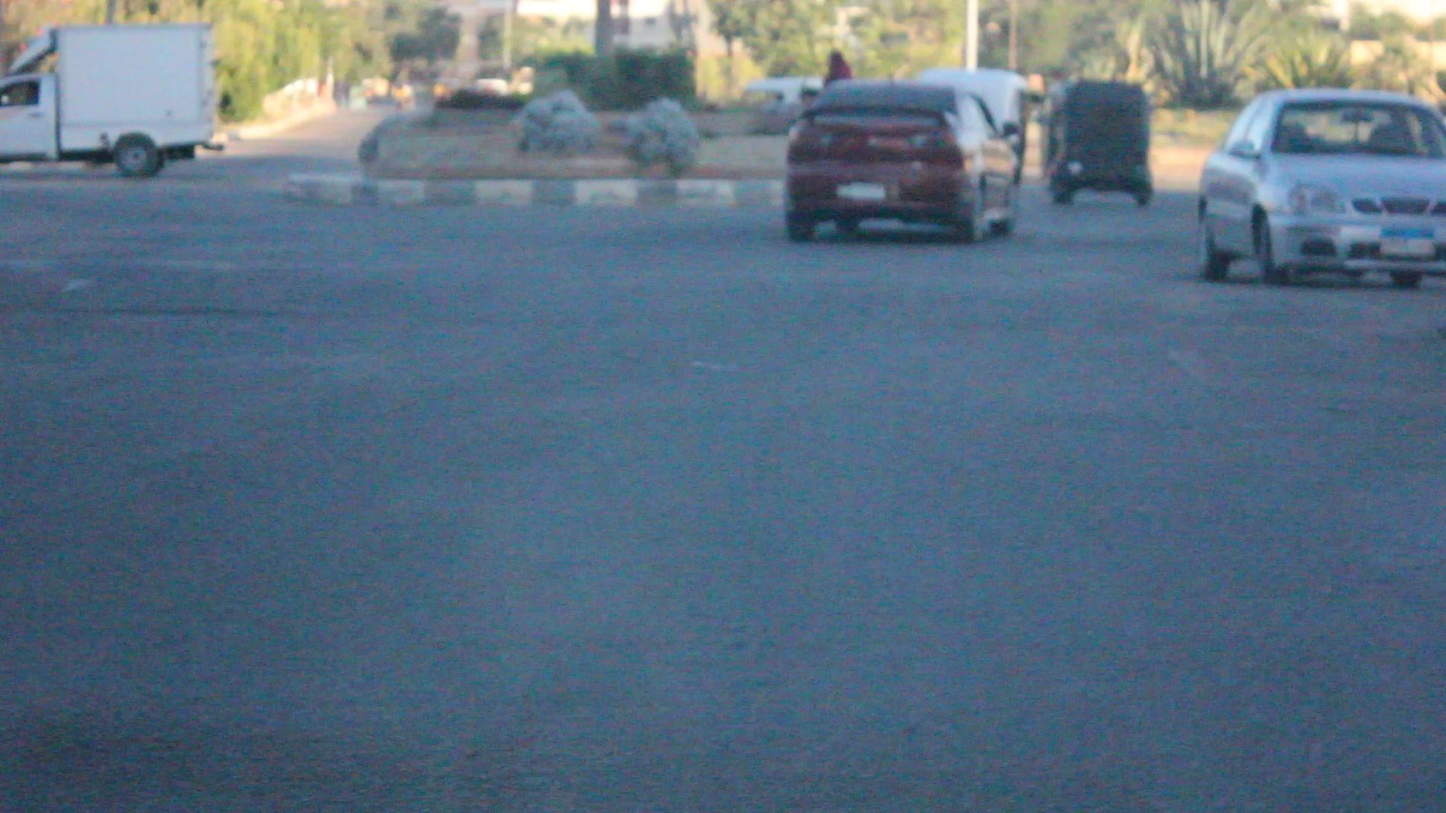Bump: (0, 233, 1427, 346)
